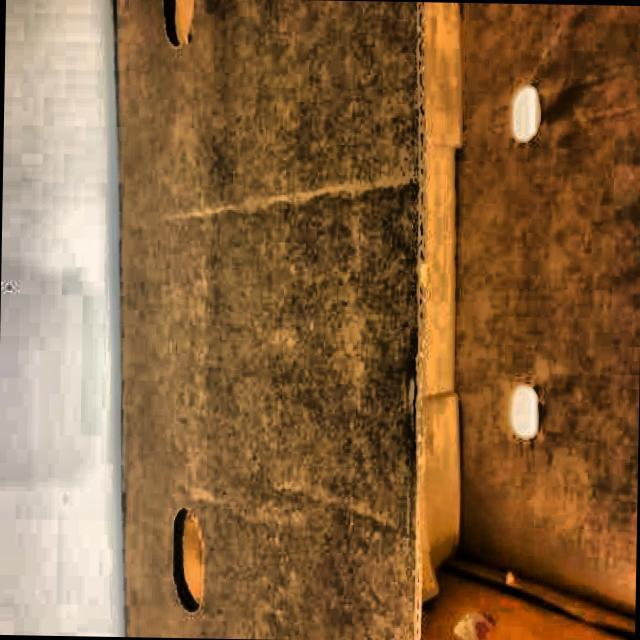cardboard: (97, 0, 444, 640)
